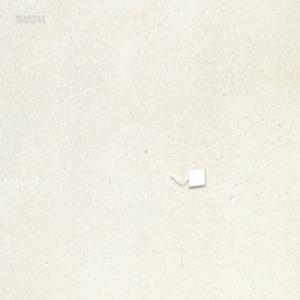LuggageTag: (168, 166, 206, 188)
